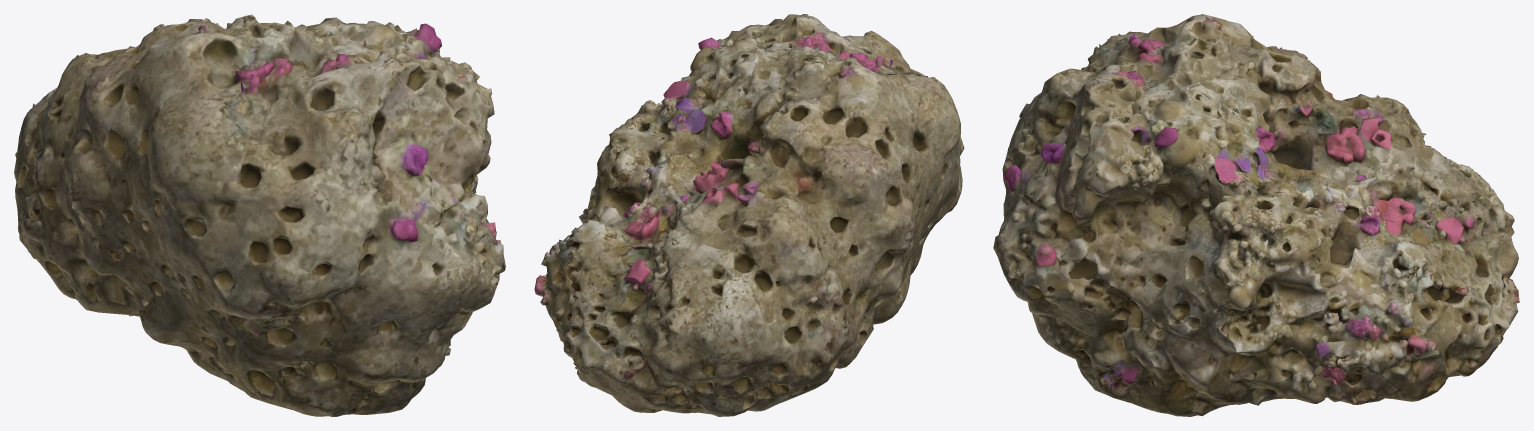
File: rock_a.glb
3 views of the same model, side by side, from view 1: azimuth 30°, elevation 25°; view 2: azimuth 150°, elevation 25°; view 3: azimuth 270°, elevation 25° (orthographic). The views are drawn at different scales.
Visible parts, largest first — view 1: tripo_node_5de212ce-8e11-42f2-b9f0-13a377048dde; view 2: tripo_node_5de212ce-8e11-42f2-b9f0-13a377048dde; view 3: tripo_node_5de212ce-8e11-42f2-b9f0-13a377048dde.
Boxes of the visible parts, x1,y1,x2,y2 form: tripo_node_5de212ce-8e11-42f2-b9f0-13a377048dde: (14, 14, 505, 416); tripo_node_5de212ce-8e11-42f2-b9f0-13a377048dde: (534, 14, 964, 416); tripo_node_5de212ce-8e11-42f2-b9f0-13a377048dde: (993, 14, 1519, 416).
Bounding box in the file's own units: 0.7613 × 0.6837 × 1.
Materials: 1 (1 with a texture image).
